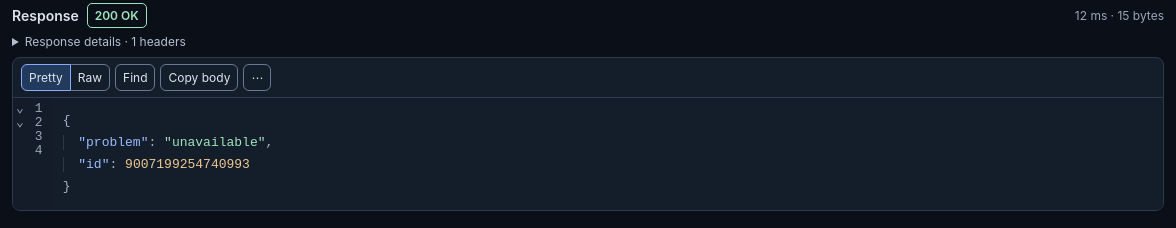
detects JSON from a case-insensitive content-type header and preserves the readonly original
Expected: the number of elements with class "json-key" is 2, [78, 135, 148, 150]; [78, 157, 110, 172]
Press Enter in the field labelled "{ \"problem\": \"unavailable\", \"id\": 9007199254740993 }", box [63, 113, 273, 194]
Click the button "Raw" at (90, 78), box [70, 64, 110, 91]
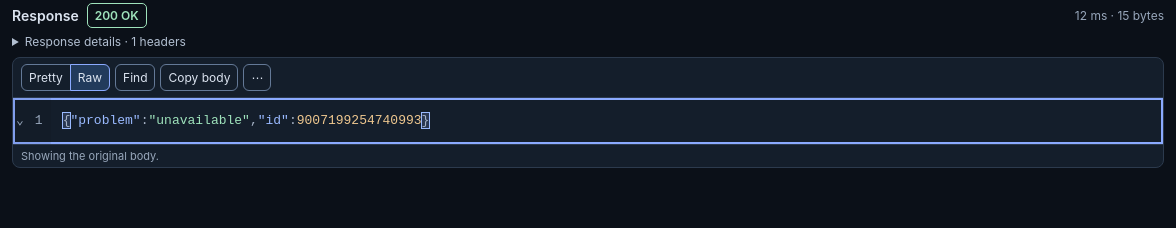
Result: the element showing "{\"problem\":\"unavailable\",\"id\":9007199254740993}" reads "{\"problem\":\"unavailable\",\"id\":9007199254740993}" at [63, 113, 429, 128]
